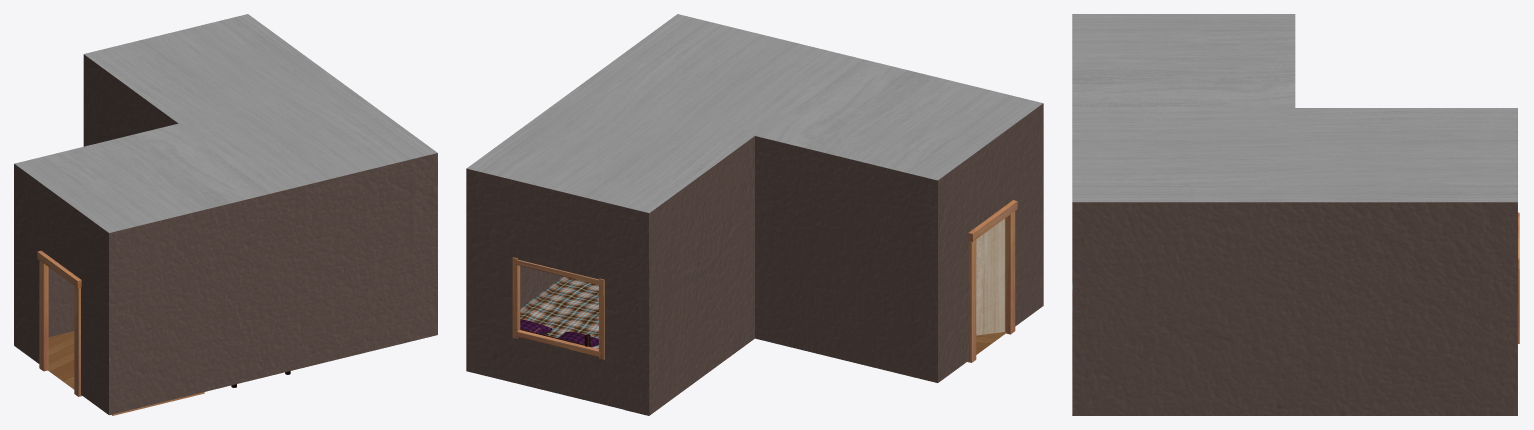
The model's file is bedroom.glb.
The picture shows the model from 3 angles, left to right: view 1: azimuth 30°, elevation 25°; view 2: azimuth 150°, elevation 25°; view 3: azimuth 270°, elevation 25°; orthographic projection. The views are drawn at different scales.
Visible parts, largest first — view 1: bedroomBaked; view 2: bedroomBaked; view 3: bedroomBaked.
Boxes of the visible parts, x1,y1,x2,y2 form: bedroomBaked: [14, 14, 437, 415]; bedroomBaked: [466, 14, 1043, 415]; bedroomBaked: [1072, 14, 1519, 415].
Bounding box in the file's own units: 80.45 × 44.11 × 79.72.
1 material, 1 textured.
